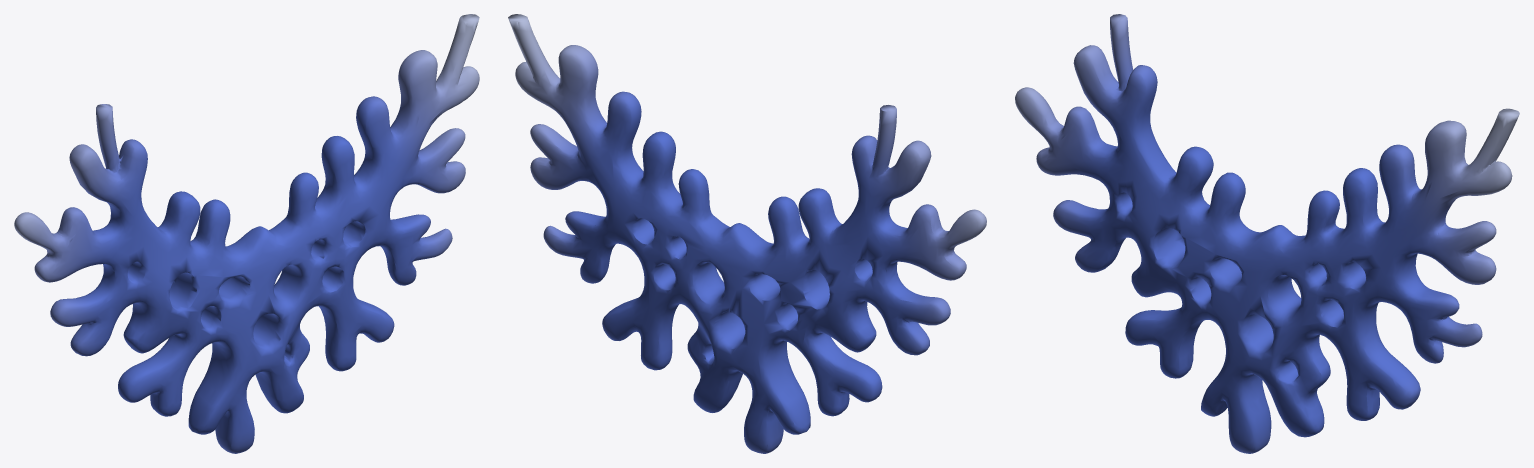
File: collar_1_ia.glb
3 views of the same model, side by side, from view 1: azimuth 30°, elevation 25°; view 2: azimuth 150°, elevation 25°; view 3: azimuth 330°, elevation 25° (orthographic). The views are drawn at different scales.
Visible parts, largest first — view 1: model; view 2: model; view 3: model.
Boxes of the visible parts, x1,y1,x2,y2 form: model: (14,14,479,453); model: (508,14,986,453); model: (1015,14,1519,453).
Size of the model in its own units: 1.9 by 1.45 by 0.1938.
